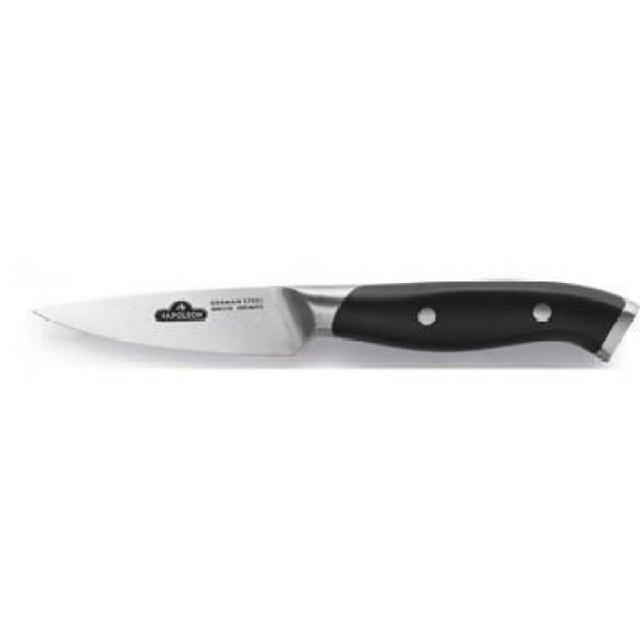-: (19, 225, 323, 428)
